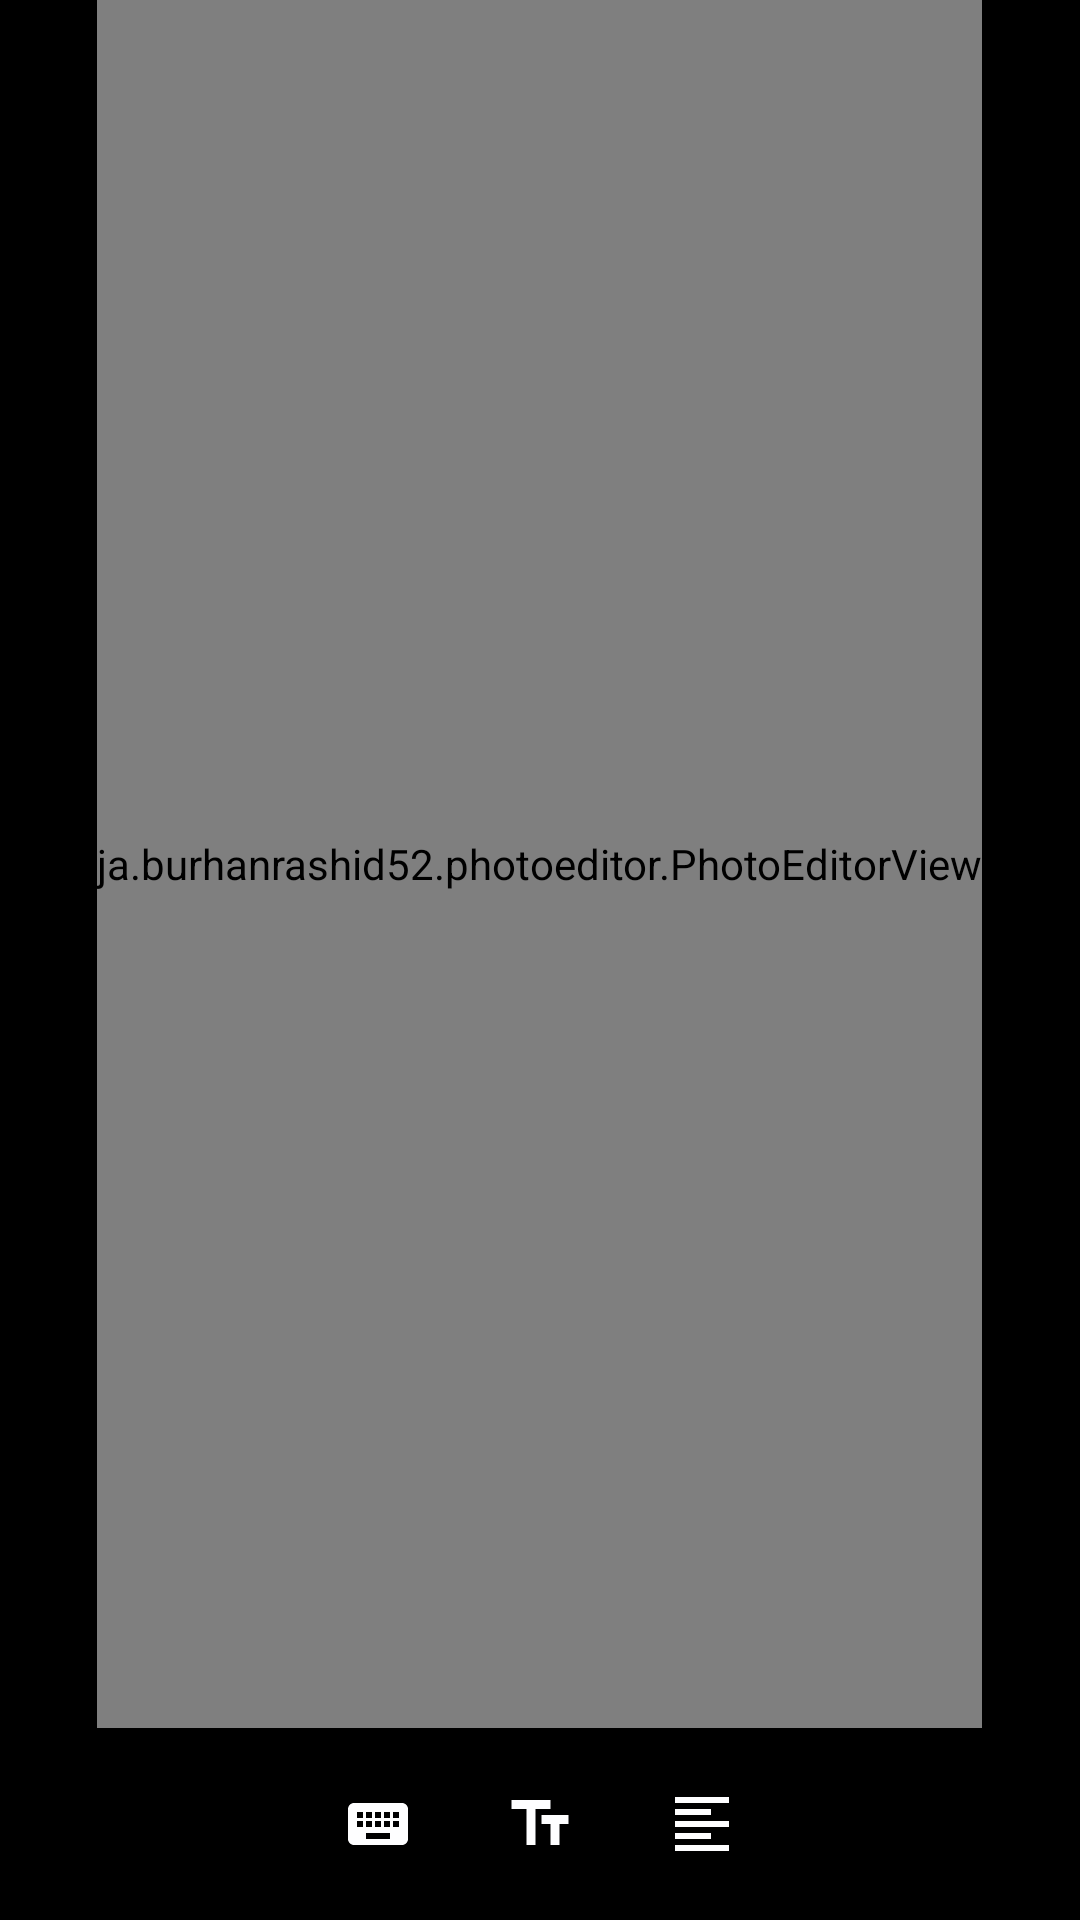

Screen size 1080px×1920px. Icon name, then its box in pixels as bbox=(x1, y1, x2, y2):
format align left: bbox=(675, 1797, 729, 1851)
keyboard: bbox=(348, 1803, 408, 1845)
text fields: bbox=(511, 1800, 569, 1845)
